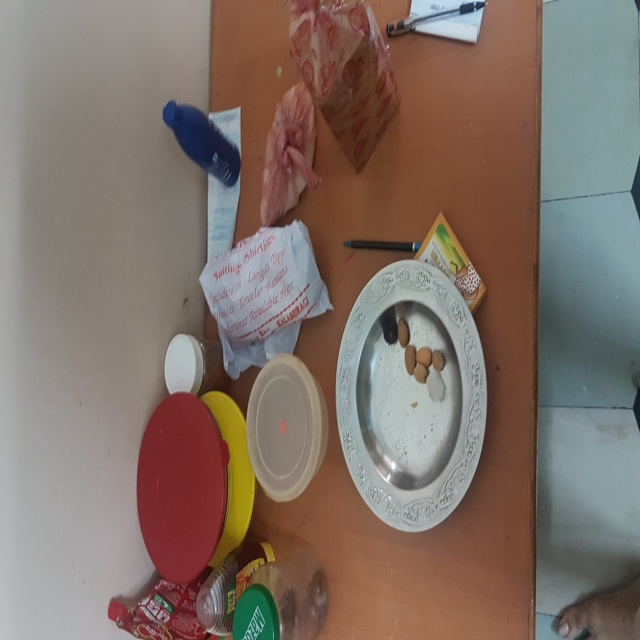butter: (405, 216, 493, 314)
